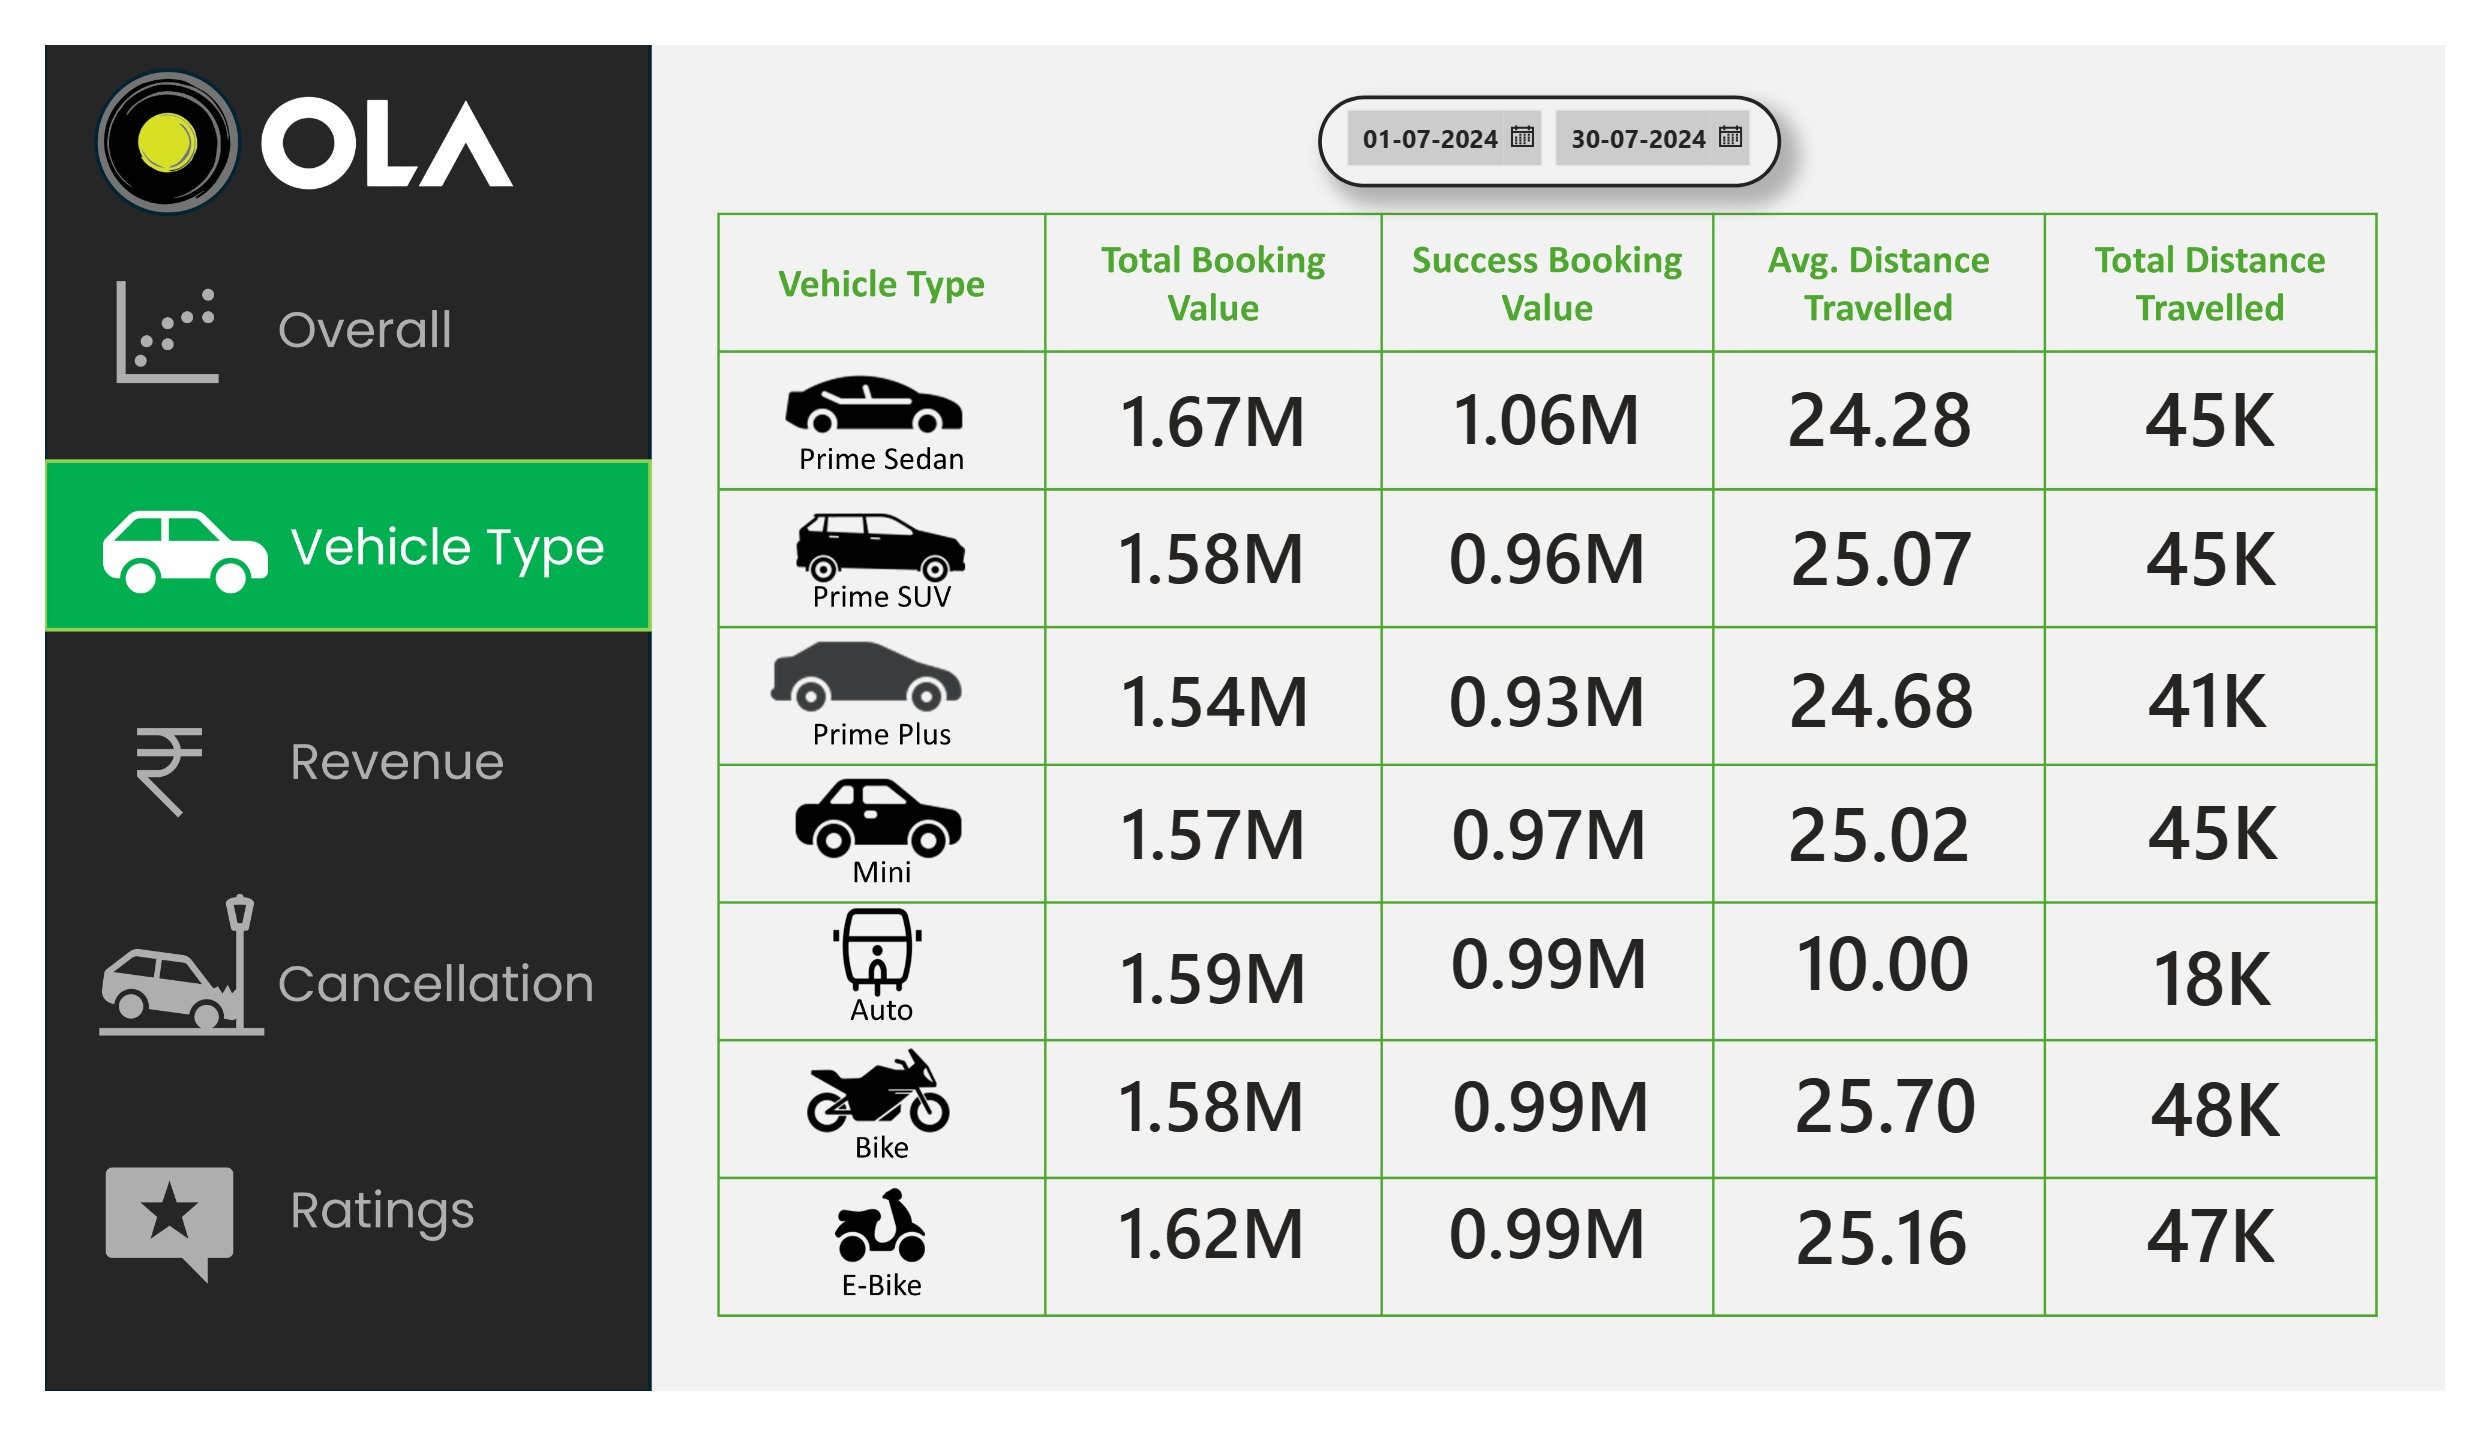

What the dashboard file says about the page in this screenshot:
{"tool":"powerbi","page":{"name":"Vehicle Type","canvas":[1280,720],"ordinal":1},"visuals":[{"type":"actionButton","box":[0,337.2,324.5,89.1],"z":0},{"type":"actionButton","box":[0,459.7,324.5,89.1],"z":1000},{"type":"actionButton","box":[0,575.8,324.5,89.1],"z":2000},{"type":"actionButton","box":[0,108.2,324.5,89.1],"z":3000},{"type":"cardVisual","fields":{"Data":["Sum(Bookings (2).Booking_Value)"]},"box":[718,162,166.8,67.5],"z":4000},{"type":"cardVisual","fields":{"Data":["Sum(Bookings (2).Booking_Value)"]},"box":[716.8,236.3,168.8,67.5],"z":5000},{"type":"cardVisual","fields":{"Data":["Sum(Bookings (2).Booking_Value)"]},"box":[716.8,311.7,168.8,69.5],"z":6000},{"type":"cardVisual","fields":{"Data":["Sum(Bookings (2).Booking_Value)"]},"box":[718.8,381.2,166.8,71.5],"z":7000},{"type":"cardVisual","fields":{"Data":["Sum(Bookings (2).Booking_Value)"]},"box":[718.8,452.7,166.8,67.5],"z":8000},{"type":"cardVisual","fields":{"Data":["Sum(Bookings (2).Booking_Value)"]},"box":[718.8,528.2,168.8,67.5],"z":9000},{"type":"cardVisual","fields":{"Data":["Sum(Bookings (2).Booking_Value)"]},"box":[716.8,595.7,168.8,69.5],"z":10000},{"type":"cardVisual","fields":{"Data":["Sum(Bookings (2).Booking_Value)"]},"box":[540,163,166.8,67.5],"z":11000},{"type":"cardVisual","fields":{"Data":["Sum(Bookings (2).Booking_Value)"]},"box":[538.1,236.3,168.8,67.5],"z":12000},{"type":"cardVisual","fields":{"Data":["Sum(Bookings (2).Booking_Value)"]},"box":[540.1,311.7,168.8,69.5],"z":13000},{"type":"cardVisual","fields":{"Data":["Sum(Bookings (2).Booking_Value)"]},"box":[540.1,381.2,166.8,71.5],"z":14000},{"type":"cardVisual","fields":{"Data":["Sum(Bookings (2).Booking_Value)"]},"box":[540.1,460.6,166.8,67.5],"z":15000},{"type":"cardVisual","fields":{"Data":["Sum(Bookings (2).Booking_Value)"]},"box":[538.1,528.2,168.8,67.5],"z":16000},{"type":"cardVisual","fields":{"Data":["Sum(Bookings (2).Booking_Value)"]},"box":[538.1,595.7,168.8,69.5],"z":17000},{"type":"cardVisual","fields":{"Data":["Avg(Bookings (2).Ride_Distance)"]},"box":[895,162,166.8,67.5],"z":18000},{"type":"cardVisual","fields":{"Data":["Avg(Bookings (2).Ride_Distance)"]},"box":[895.5,236.3,168.8,67.5],"z":19000},{"type":"cardVisual","fields":{"Data":["Avg(Bookings (2).Ride_Distance)"]},"box":[895.5,311.7,168.8,69.5],"z":20000},{"type":"cardVisual","fields":{"Data":["Avg(Bookings (2).Ride_Distance)"]},"box":[895.5,381.2,166.8,71.5],"z":21000},{"type":"cardVisual","fields":{"Data":["Avg(Bookings (2).Ride_Distance)"]},"box":[897.5,452.7,166.8,67.5],"z":22000},{"type":"cardVisual","fields":{"Data":["Avg(Bookings (2).Ride_Distance)"]},"box":[897.5,528.2,168.8,67.5],"z":23000},{"type":"cardVisual","fields":{"Data":["Avg(Bookings (2).Ride_Distance)"]},"box":[895.5,597.7,168.8,69.5],"z":24000},{"type":"cardVisual","fields":{"Data":["Sum(Bookings (2).Ride_Distance)"]},"box":[1071,162.8,166.8,67.5],"z":25000},{"type":"cardVisual","fields":{"Data":["Sum(Bookings (2).Ride_Distance)"]},"box":[1071.4,237,168.1,66.8],"z":26000},{"type":"cardVisual","fields":{"Data":["Sum(Bookings (2).Ride_Distance)"]},"box":[1069.4,311.9,168.1,68.9],"z":27000},{"type":"cardVisual","fields":{"Data":["Sum(Bookings (2).Ride_Distance)"]},"box":[1073.4,380.8,166.1,70.9],"z":28000},{"type":"cardVisual","fields":{"Data":["Sum(Bookings (2).Ride_Distance)"]},"box":[1073.4,459.7,166.1,68.9],"z":29000},{"type":"cardVisual","fields":{"Data":["Sum(Bookings (2).Ride_Distance)"]},"box":[1073.4,530.6,168.1,66.8],"z":30000},{"type":"cardVisual","fields":{"Data":["Sum(Bookings (2).Ride_Distance)"]},"box":[1071.4,597.5,168.1,68.9],"z":31000},{"type":"slicer","title":"DATE","fields":{"Values":["Bookings (2).Date"]},"box":[679.2,27,246.5,49.3],"z":32000}]}

Visuals, with their boxes in screenshot pixels (x1, y1, x2, y2), scaled from the page's 1280x720 canvas onto the 2490x1440 screenshot:
actionButton: rect(0, 674, 631, 853)
actionButton: rect(0, 919, 631, 1098)
actionButton: rect(0, 1152, 631, 1330)
actionButton: rect(0, 216, 631, 395)
cardVisual - Sum(Bookings (2).Booking_Value): rect(1397, 324, 1721, 459)
cardVisual - Sum(Bookings (2).Booking_Value): rect(1394, 473, 1723, 608)
cardVisual - Sum(Bookings (2).Booking_Value): rect(1394, 623, 1723, 762)
cardVisual - Sum(Bookings (2).Booking_Value): rect(1398, 762, 1723, 905)
cardVisual - Sum(Bookings (2).Booking_Value): rect(1398, 905, 1723, 1040)
cardVisual - Sum(Bookings (2).Booking_Value): rect(1398, 1056, 1727, 1191)
cardVisual - Sum(Bookings (2).Booking_Value): rect(1394, 1191, 1723, 1330)
cardVisual - Sum(Bookings (2).Booking_Value): rect(1050, 326, 1375, 461)
cardVisual - Sum(Bookings (2).Booking_Value): rect(1047, 473, 1375, 608)
cardVisual - Sum(Bookings (2).Booking_Value): rect(1051, 623, 1379, 762)
cardVisual - Sum(Bookings (2).Booking_Value): rect(1051, 762, 1375, 905)
cardVisual - Sum(Bookings (2).Booking_Value): rect(1051, 921, 1375, 1056)
cardVisual - Sum(Bookings (2).Booking_Value): rect(1047, 1056, 1375, 1191)
cardVisual - Sum(Bookings (2).Booking_Value): rect(1047, 1191, 1375, 1330)
cardVisual - Avg(Bookings (2).Ride_Distance): rect(1741, 324, 2066, 459)
cardVisual - Avg(Bookings (2).Ride_Distance): rect(1742, 473, 2070, 608)
cardVisual - Avg(Bookings (2).Ride_Distance): rect(1742, 623, 2070, 762)
cardVisual - Avg(Bookings (2).Ride_Distance): rect(1742, 762, 2067, 905)
cardVisual - Avg(Bookings (2).Ride_Distance): rect(1746, 905, 2070, 1040)
cardVisual - Avg(Bookings (2).Ride_Distance): rect(1746, 1056, 2074, 1191)
cardVisual - Avg(Bookings (2).Ride_Distance): rect(1742, 1195, 2070, 1334)
cardVisual - Sum(Bookings (2).Ride_Distance): rect(2083, 326, 2408, 461)
cardVisual - Sum(Bookings (2).Ride_Distance): rect(2084, 474, 2411, 608)
cardVisual - Sum(Bookings (2).Ride_Distance): rect(2080, 624, 2407, 762)
cardVisual - Sum(Bookings (2).Ride_Distance): rect(2088, 762, 2411, 903)
cardVisual - Sum(Bookings (2).Ride_Distance): rect(2088, 919, 2411, 1057)
cardVisual - Sum(Bookings (2).Ride_Distance): rect(2088, 1061, 2415, 1195)
cardVisual - Sum(Bookings (2).Ride_Distance): rect(2084, 1195, 2411, 1333)
"DATE" slicer: rect(1321, 54, 1801, 153)
